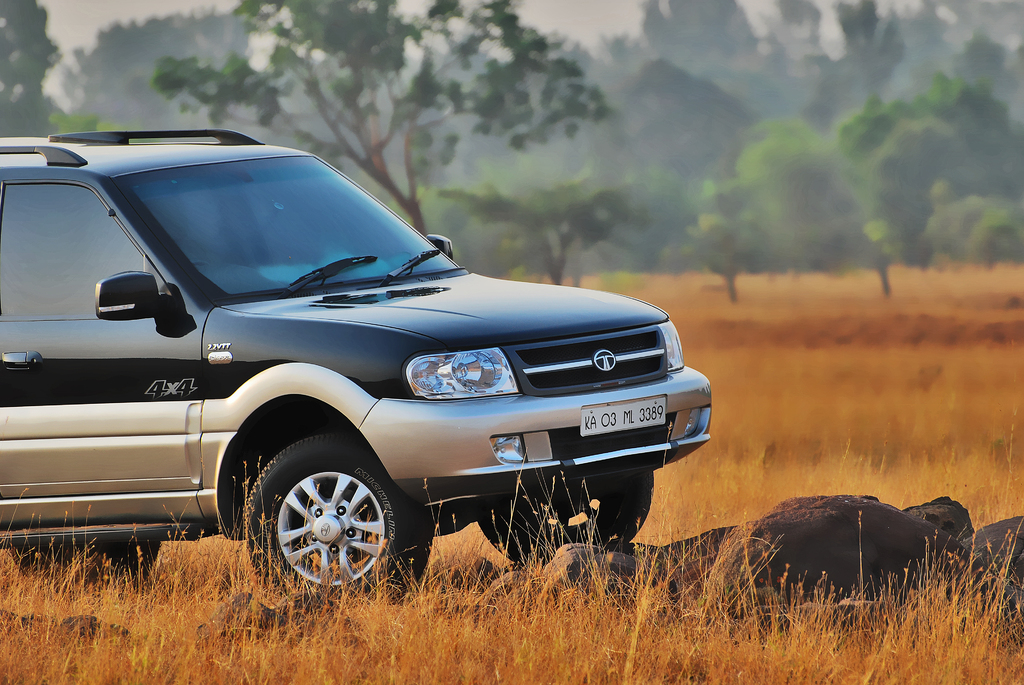cars: (0, 135, 710, 611)
